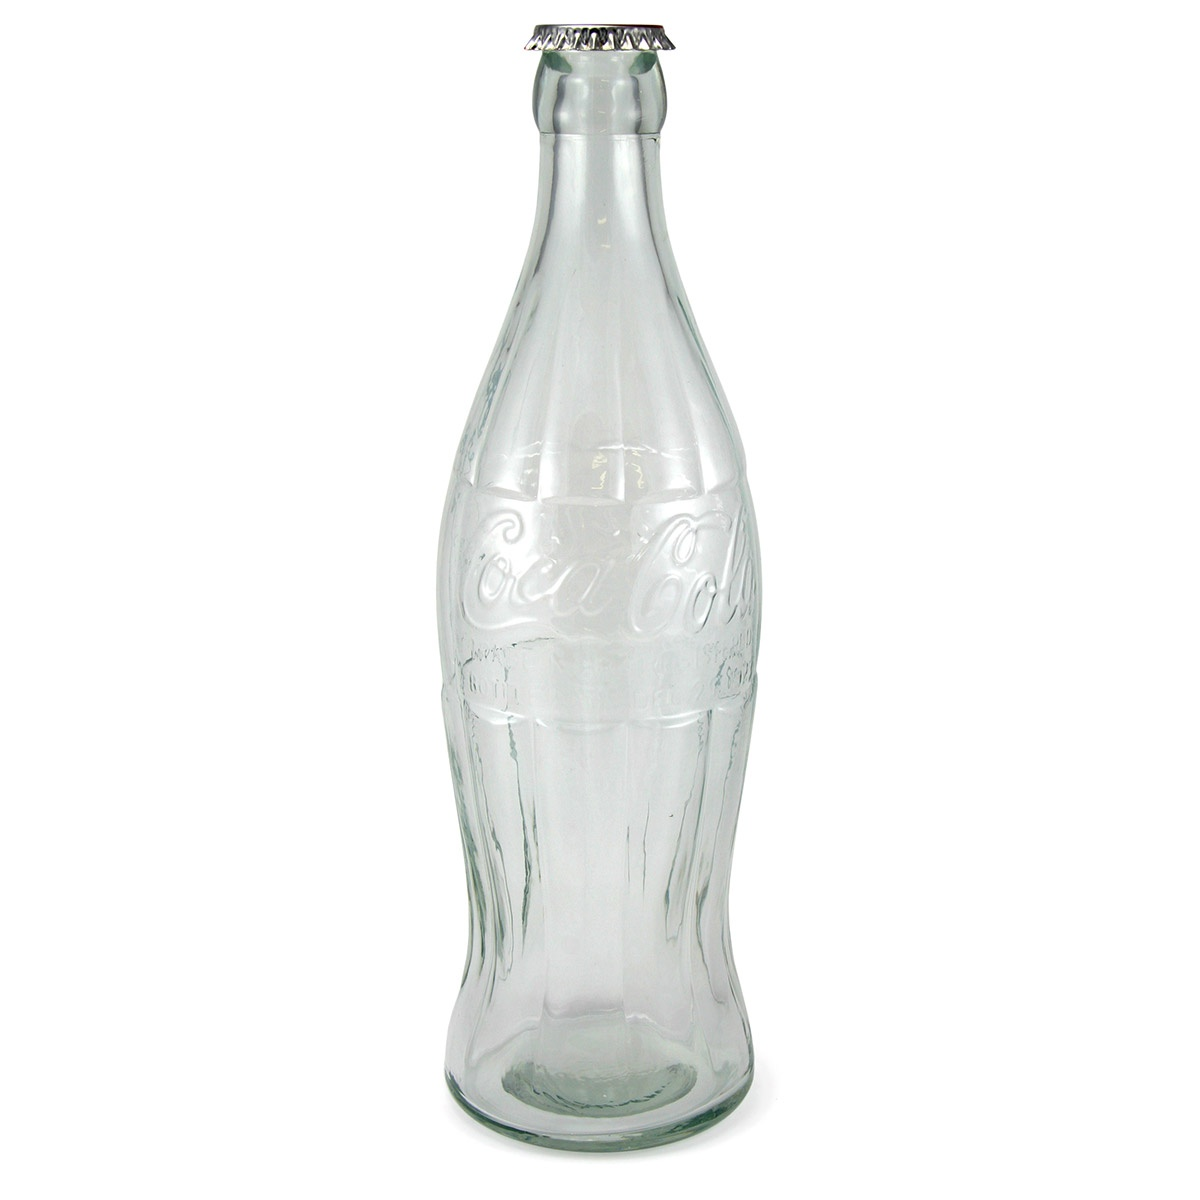emptybottle: (437, 21, 751, 1147)
